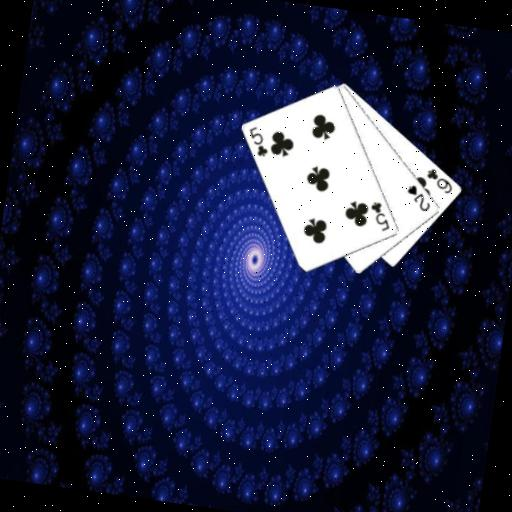2S: (402, 181, 435, 214)
5C: (365, 198, 396, 234), (243, 123, 273, 159)
6C: (422, 164, 457, 196)
